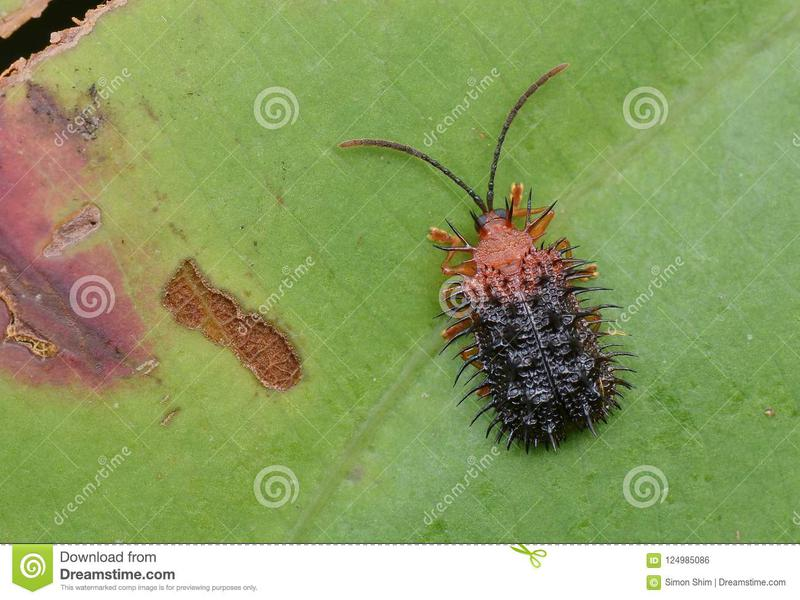Spiny_beetle: (415, 180, 651, 451)
